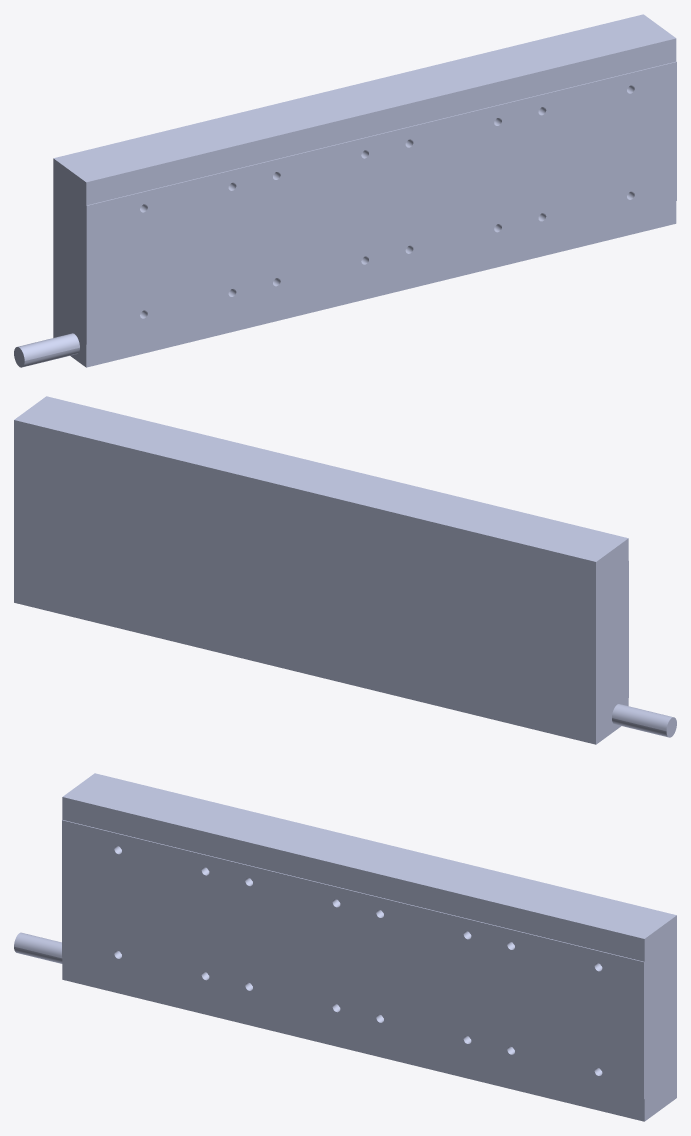
Rendered from MTK-18.glb.
The picture shows the model from 3 angles, top to bottom: view 1: azimuth 30°, elevation 25°; view 2: azimuth 150°, elevation 25°; view 3: azimuth 330°, elevation 25°; orthographic projection.
Parts seen in each view (by area): view 1: MTK-18_node_1; view 2: MTK-18_node_1; view 3: MTK-18_node_1.
Boxes of the visible parts, x1,y1,x2,y2 form: MTK-18_node_1: (14,14,676,367); MTK-18_node_1: (14,396,676,744); MTK-18_node_1: (14,773,676,1121).
Size of the model in its own units: 350 by 96 by 31.4.
